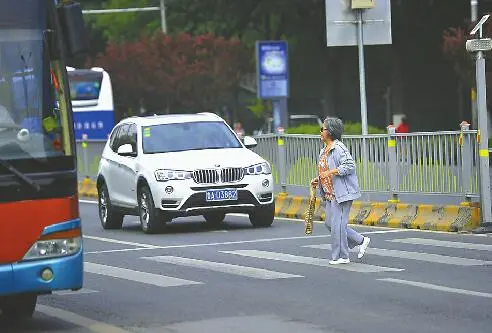bus: (0, 0, 83, 320), (0, 68, 112, 144)
car: (102, 115, 275, 232)
person: (306, 119, 370, 265)
sign: (258, 40, 289, 99)
